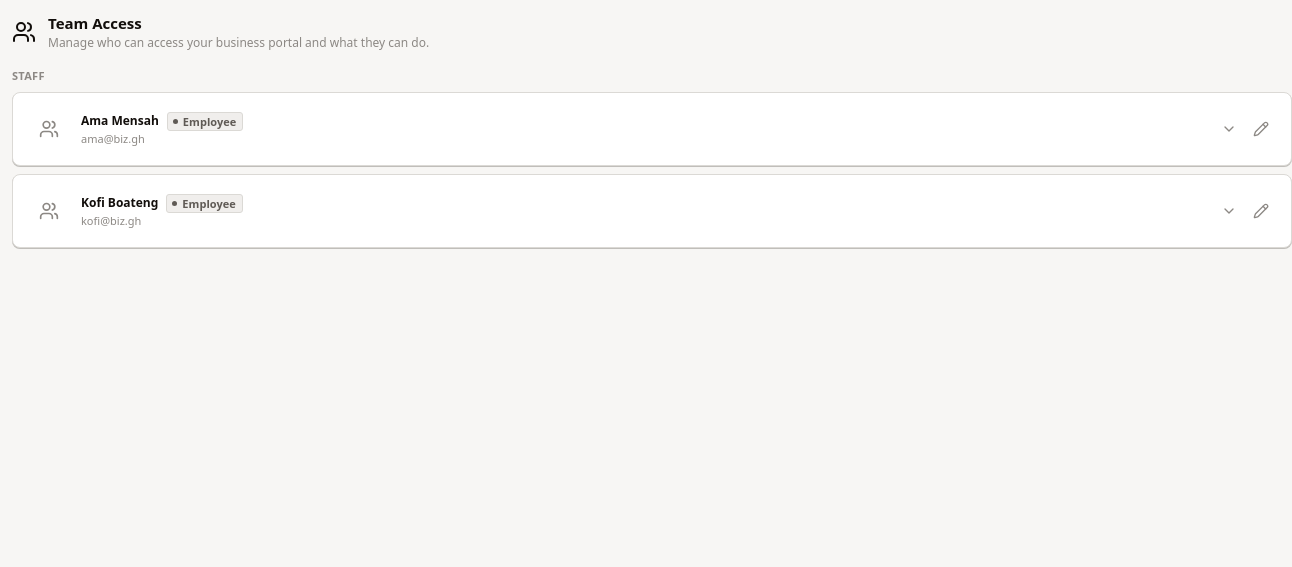
Test: TeamAccess — permission editing flow (Finding 3) › keeps the editor open and honest on server refusal — no optimistic success
Expected: the text "Ama Mensah" is shown, [81, 112, 159, 130]
What coordinates should you click on to do the following:
click the button named "Edit permissions for Ama Mensah"
I would click on:
 (1261, 129)
Its box is [1247, 115, 1275, 143].
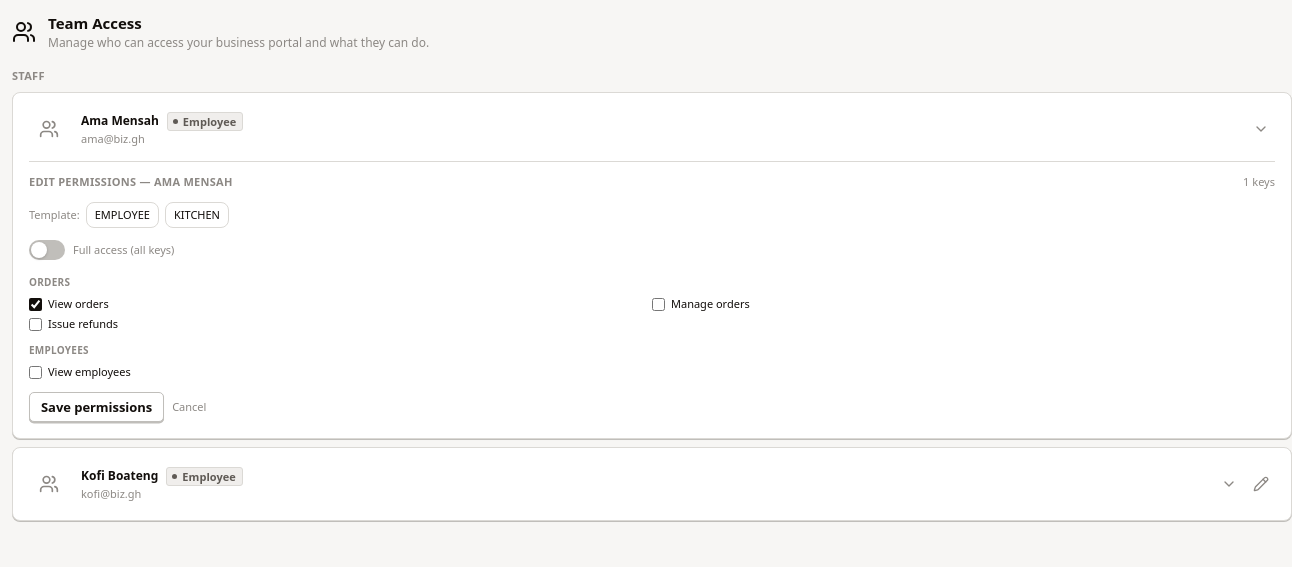
What coordinates should you click on to do the following:
click the button "Save permissions"
I would click on:
 (97, 407)
Its box is [29, 392, 164, 422].
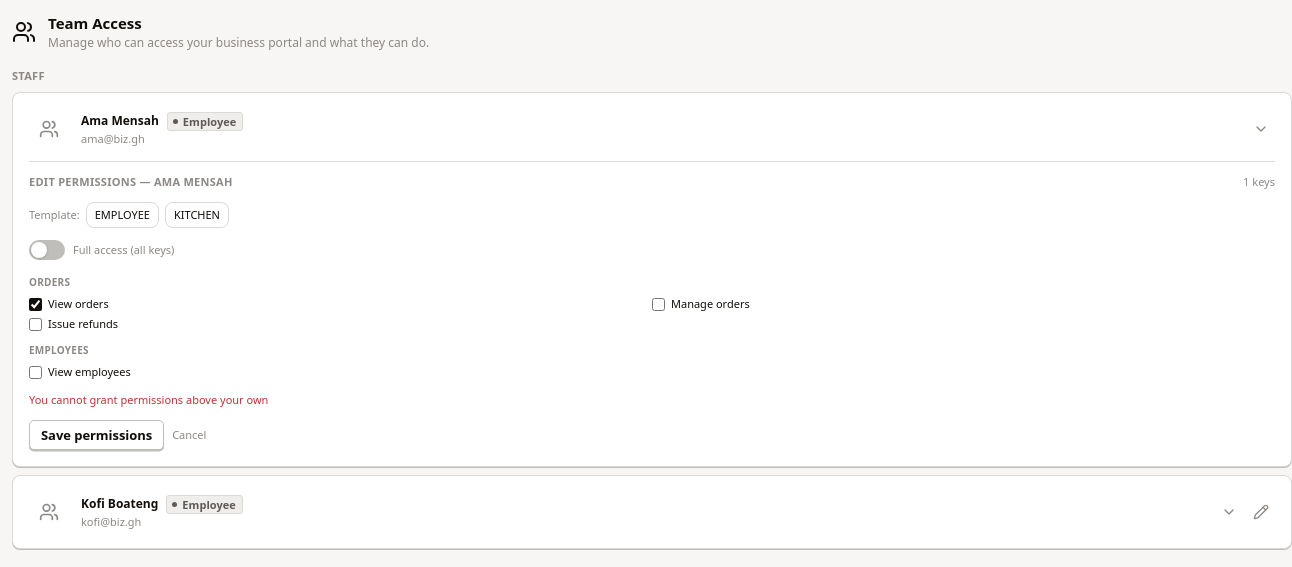
Now the element with test id "perms-editor-emp-1" is shown, box [29, 161, 1275, 450]
Now the text with test id "perms-error-emp-1" shows "cannot grant permissions above your own", box [29, 392, 268, 407]
